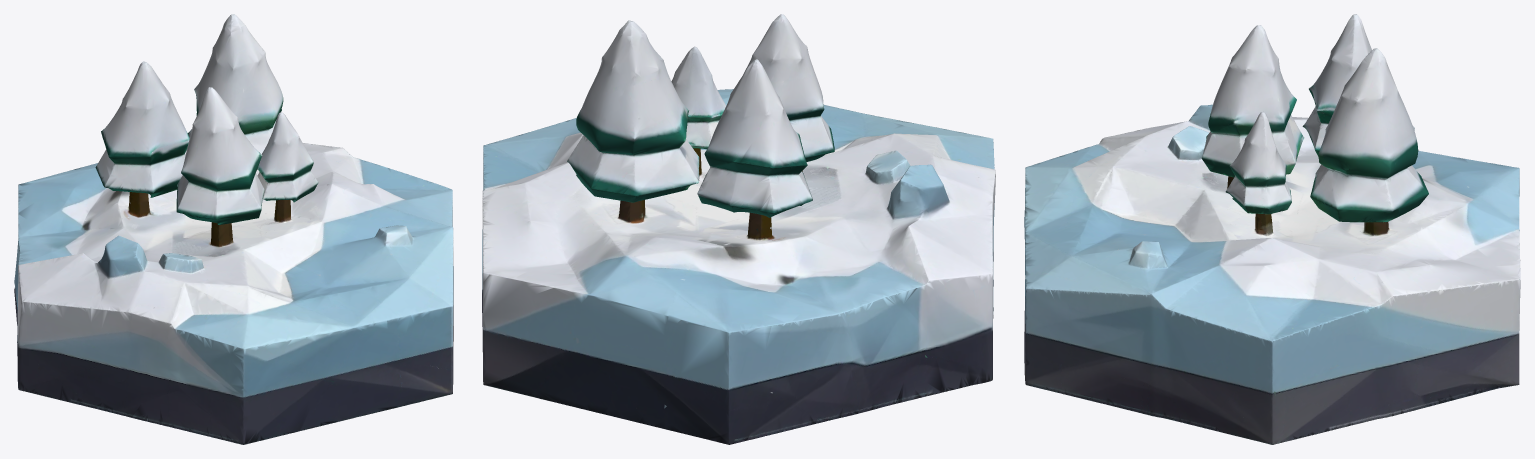
The model's file is snowtile_lv2.glb.
3 renders of one model, left to right at view 1: azimuth 30°, elevation 25°; view 2: azimuth 150°, elevation 25°; view 3: azimuth 270°, elevation 25°, orthographic. The views are drawn at different scales.
Size of the model in its own units: 1.9 by 1.19 by 1.72.
Materials: 1 (1 with a texture image).
